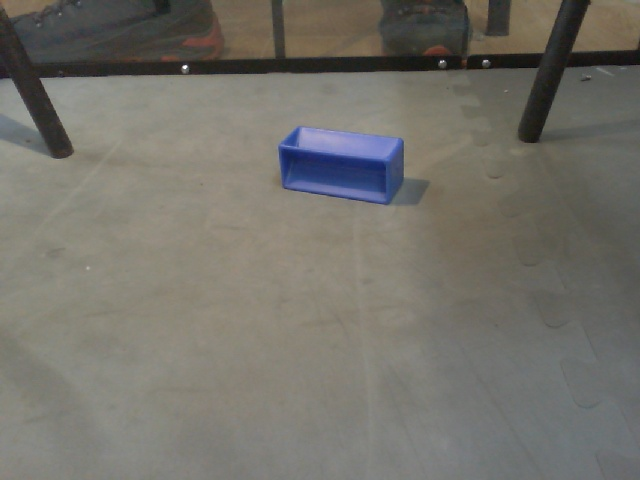BlueSample: (276, 122, 411, 209)
